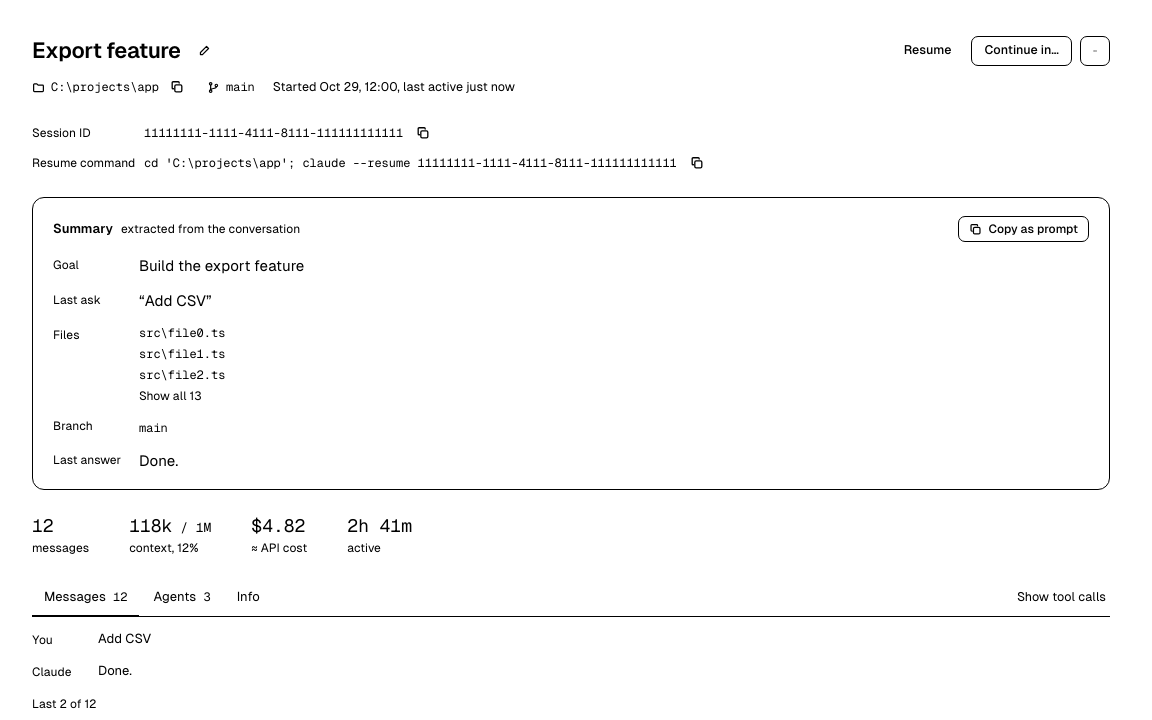
Test case: DetailPanel summary › shows 3 files, then Show all N expands and Show less collapses
Expected: the text "src\\file0.ts" is shown 3 times, [139, 324, 225, 340]; [139, 346, 225, 362]; [139, 366, 225, 382]
Step 1. Click the button "Show all 13" → (170, 396), box [139, 386, 202, 404]
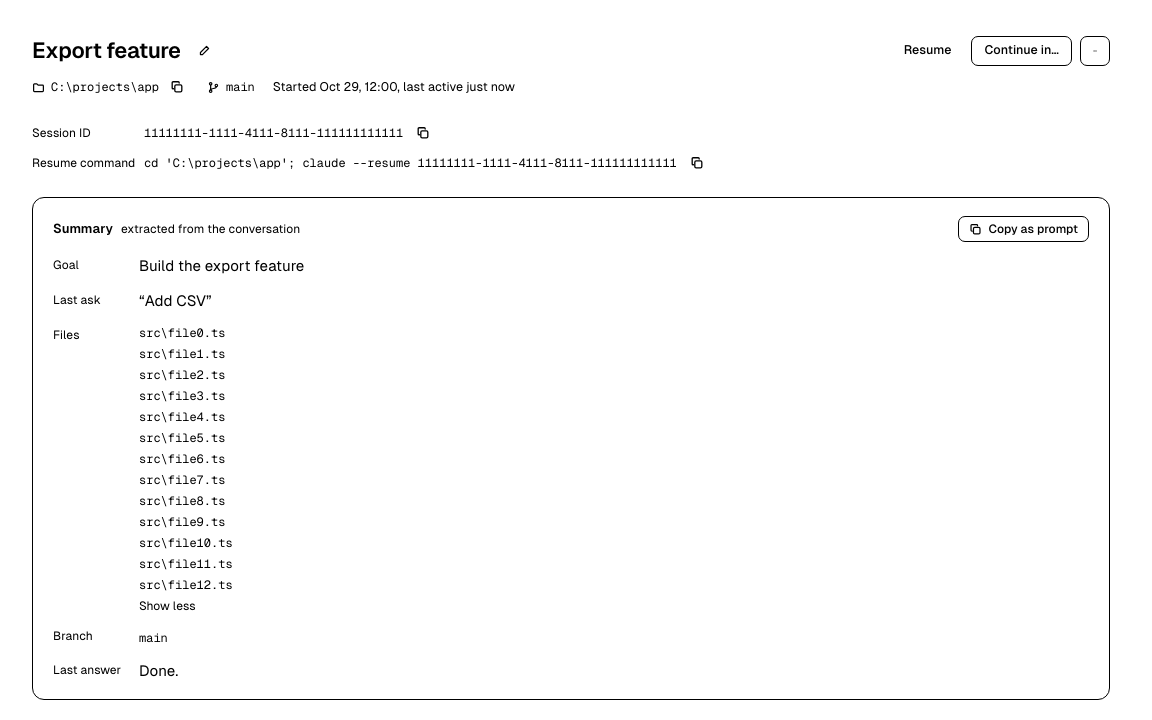
Now the text "src\\file0.ts" is shown 13 times
Step 2. Click the button "Show less" → (167, 606), box [139, 596, 196, 614]
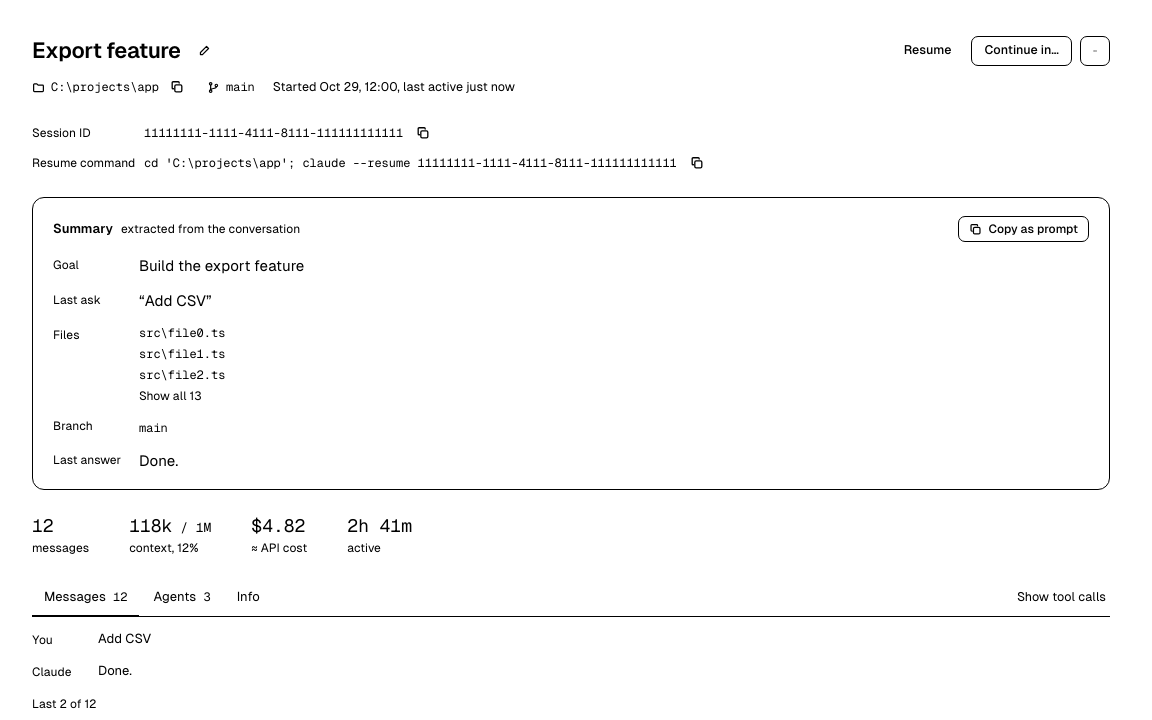
Now the text "src\\file0.ts" is shown 3 times, box [139, 324, 225, 340]; [139, 346, 225, 362]; [139, 366, 225, 382]
